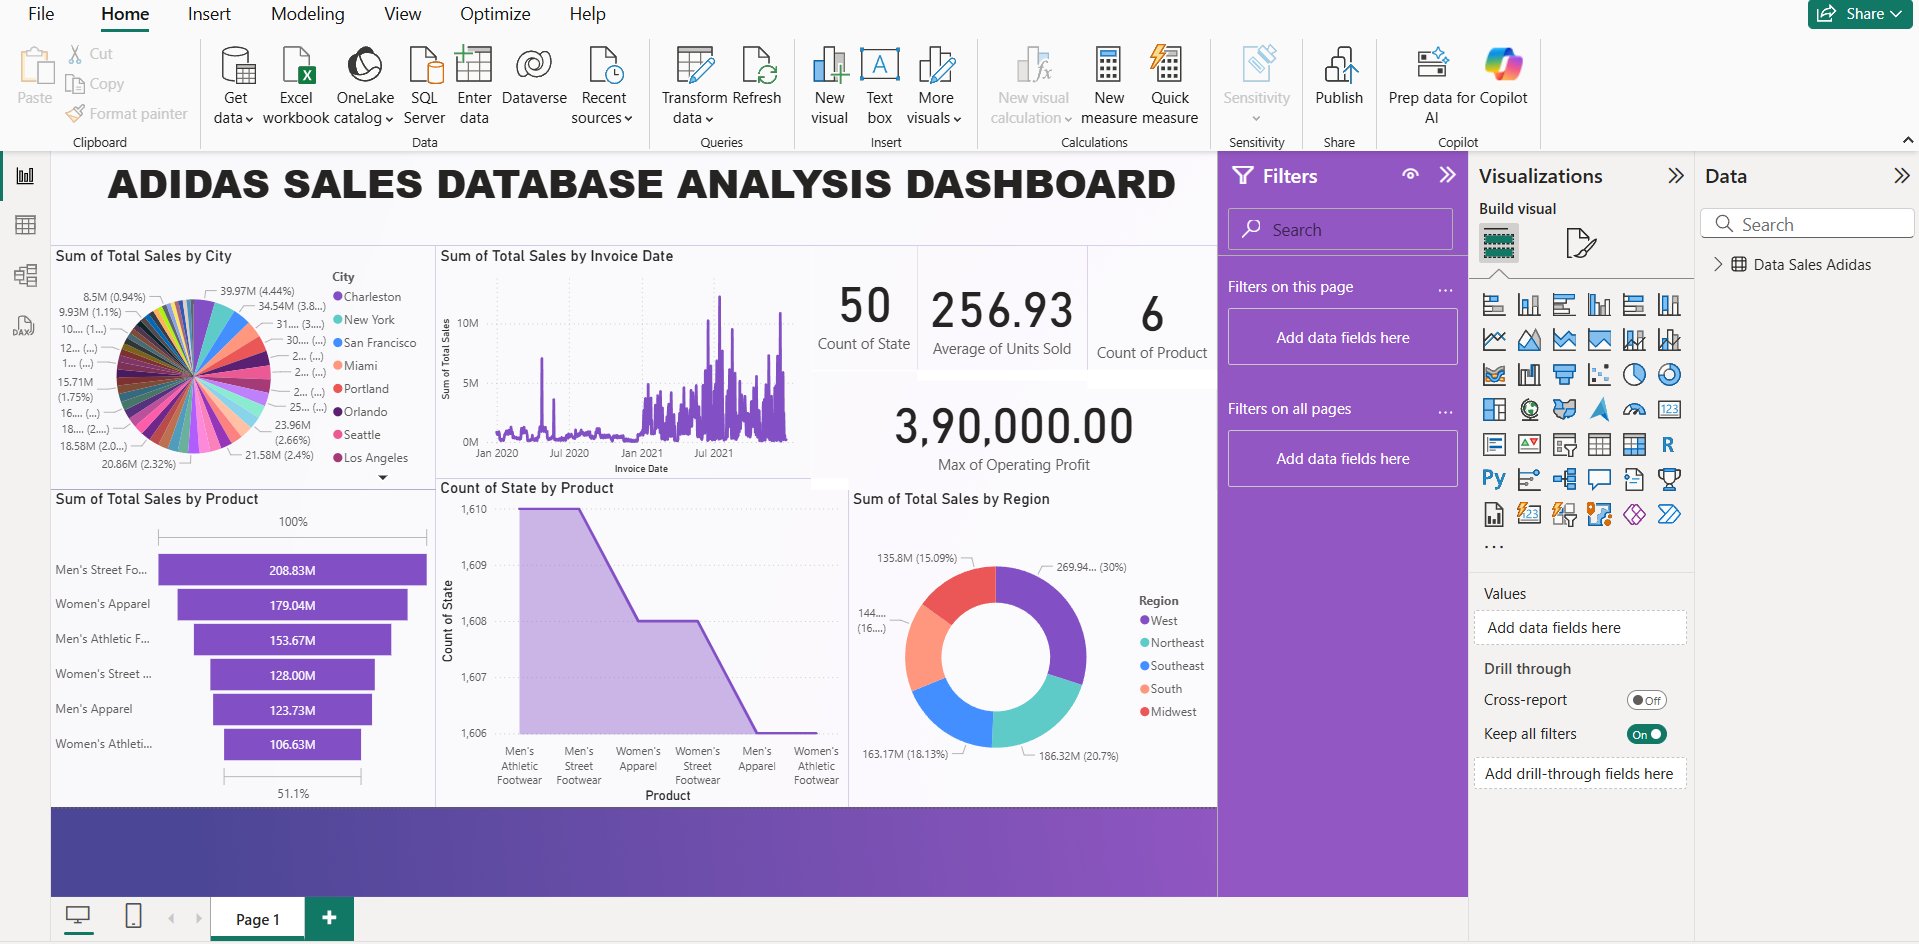

Layout of this report page (visuals, bound fields, positions):
{"tool":"powerbi","page":{"name":"Page 1","canvas":[1280,720],"ordinal":0},"visuals":[{"type":"donutChart","fields":{"Category":["Data Sales Adidas.Region"],"Y":["Sum(Data Sales Adidas.Total Sales)"]},"box":[875.5,371.9,404.8,348.5],"z":0},{"type":"funnel","fields":{"Category":["Data Sales Adidas.Product"],"Y":["Sum(Data Sales Adidas.Total Sales)"]},"box":[0,371.9,422.6,348.5],"z":1},{"type":"pieChart","fields":{"Category":["Data Sales Adidas.City"],"Y":["Sum(Data Sales Adidas.Total Sales)"]},"box":[0,104.3,422.6,267.6],"z":2},{"type":"lineChart","fields":{"Category":["Data Sales Adidas.Invoice Date"],"Y":["Sum(Data Sales Adidas.Total Sales)"]},"box":[422.6,104.3,411.7,255.2],"z":3},{"type":"stackedAreaChart","fields":{"Category":["Data Sales Adidas.Product"],"Y":["CountNonNull(Data Sales Adidas.State)"]},"box":[422.6,359.5,452.8,360.9],"z":4},{"type":"card","fields":{"Values":["Count(Data Sales Adidas.State)"]},"box":[834.3,104.3,116.6,137.2],"z":5},{"type":"card","fields":{"Values":["Avg(Data Sales Adidas.Units Sold)"]},"box":[950.9,104.3,186.6,148.2],"z":6},{"type":"card","fields":{"Values":["Max(Data Sales Adidas.Operating Profit)"]},"box":[834.3,240.1,446,131.7],"z":7},{"type":"card","fields":{"Values":["Count(Data Sales Adidas.Product)"]},"box":[1137.6,104.3,142.7,156.4],"z":8},{"type":"textbox","box":[0,0,1280.3,104.3],"z":9}]}

Visuals, with their boxes on the page's 1280x720 design canvas (x1, y1, x2, y2). These are canvas units, not pixel positions in the 1919x944 screenshot, which may show the page scaled, cropped or inside an application window:
donutChart - Data Sales Adidas.Region x Sum(Data Sales Adidas.Total Sales): detection(876, 372, 1280, 720)
funnel - Data Sales Adidas.Product x Sum(Data Sales Adidas.Total Sales): detection(0, 372, 423, 720)
pieChart - Data Sales Adidas.City x Sum(Data Sales Adidas.Total Sales): detection(0, 104, 423, 372)
lineChart - Data Sales Adidas.Invoice Date x Sum(Data Sales Adidas.Total Sales): detection(423, 104, 834, 360)
stackedAreaChart - Data Sales Adidas.Product x CountNonNull(Data Sales Adidas.State): detection(423, 360, 875, 720)
card - Count(Data Sales Adidas.State): detection(834, 104, 951, 242)
card - Avg(Data Sales Adidas.Units Sold): detection(951, 104, 1138, 252)
card - Max(Data Sales Adidas.Operating Profit): detection(834, 240, 1280, 372)
card - Count(Data Sales Adidas.Product): detection(1138, 104, 1280, 261)
textbox: detection(0, 0, 1280, 104)
